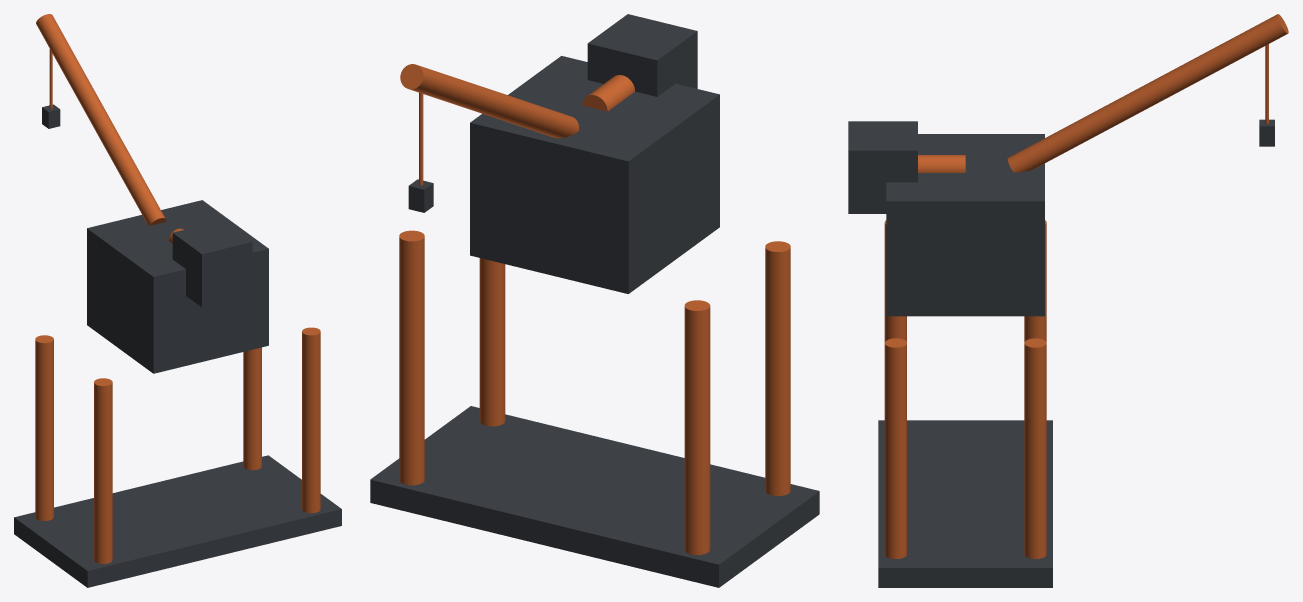
The model's file is b07-quay-crane.glb.
3 renders of one model, left to right at view 1: azimuth 30°, elevation 25°; view 2: azimuth 150°, elevation 25°; view 3: azimuth 270°, elevation 25°, orthographic. The views are drawn at different scales.
Parts seen in each view (by area): view 1: part4, part5, part7, part8, part2, part0, part1, part3; view 2: part5, part4, part7, part1, part3, part0, part8, part2, part6, part10; view 3: part5, part4, part8, part7, part3, part2, part6, part0, part1.
Part boxes in pixels (x1,y1,x2,y2): part4: [14, 455, 341, 587]; part5: [87, 200, 268, 373]; part7: [172, 220, 252, 307]; part8: [36, 14, 166, 225]; part2: [302, 327, 320, 513]; part0: [94, 378, 112, 563]; part1: [35, 335, 53, 520]; part3: [243, 347, 261, 470]; part5: [470, 56, 719, 293]; part4: [370, 406, 819, 587]; part7: [587, 14, 697, 96]; part1: [684, 300, 710, 554]; part3: [399, 230, 424, 485]; part0: [765, 241, 790, 495]; part8: [400, 64, 578, 138]; part2: [479, 258, 505, 426]; part6: [582, 75, 634, 111]; part10: [408, 179, 433, 212]; part5: [886, 134, 1044, 316]; part4: [878, 420, 1052, 587]; part8: [1007, 14, 1288, 172]; part7: [848, 121, 917, 213]; part3: [1024, 338, 1046, 558]; part2: [884, 338, 906, 558]; part6: [918, 155, 965, 172]; part0: [884, 220, 906, 342]; part1: [1024, 220, 1046, 342].
Size of the model in its own units: 11000 by 17352 by 13877.
